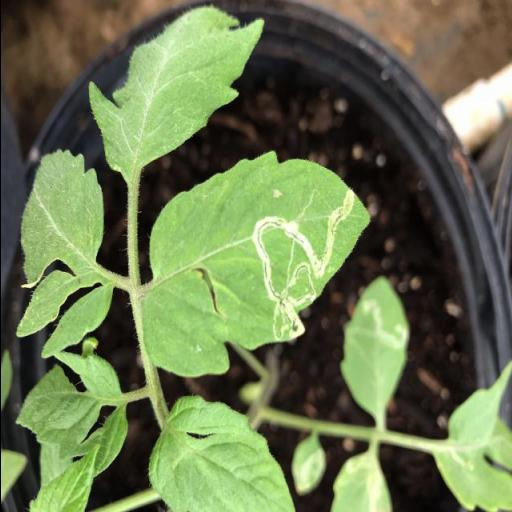disease_tomato: (138, 156, 372, 378)
